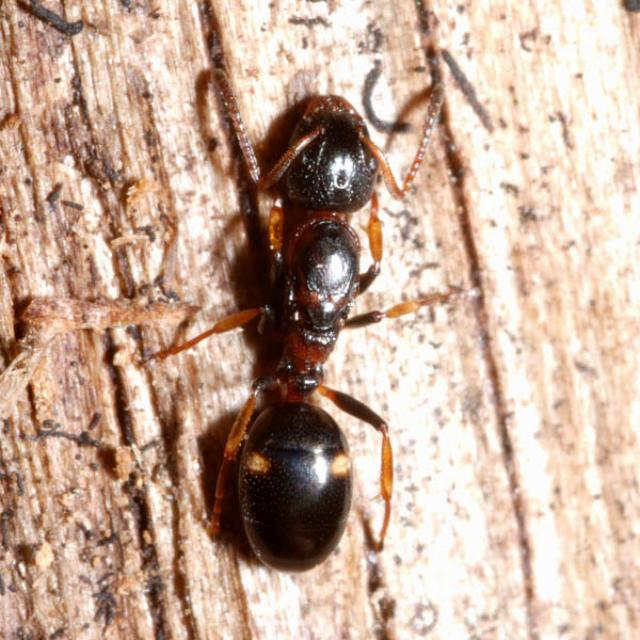Dolichoderus: (156, 52, 458, 602)
